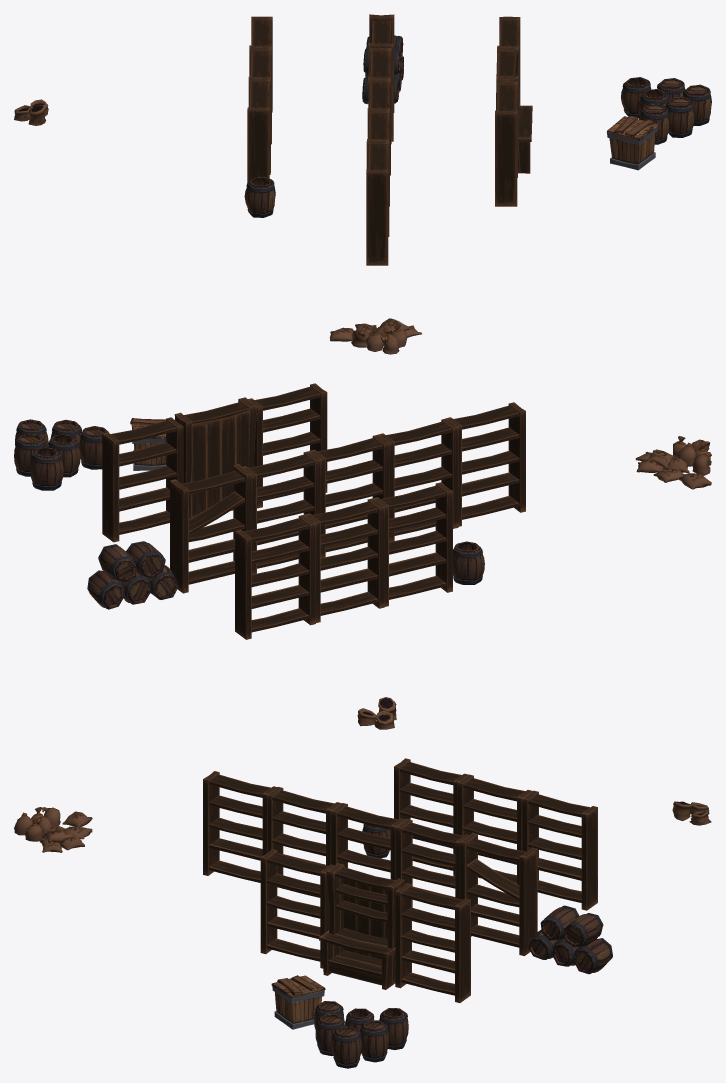
File: cocinaprops1.fbx
3 renders of one model, top to bottom at view 1: azimuth 30°, elevation 25°; view 2: azimuth 150°, elevation 25°; view 3: azimuth 270°, elevation 25°, orthographic. The views are drawn at different scales.
Visible parts, largest first — view 1: SM_PROP_bookshelf_dungeon_03.012, SM_PROP_bookshelf_dungeon_03.011, SM_PROP_bookshelf_dungeon_03.016, SM_PROP_box_dungeon_04.003, SM_PROP_bookshelf_dungeon_01.001, SM_PROP_bookshelf_dungeon_04.002, SM_PROP_barrel_dungeon_02.004, SM_PROP_barrel_dungeon_01.002, SM_PROP_barrel_dungeon_03.001, SM_PROP_bookshelf_dungeon_03.015, SM_PROP_bookshelf_dungeon_03.014, SM_PROP_bookshelf_dungeon_03.010 (+6 smaller); view 2: SM_PROP_bookshelf_dungeon_03.010, SM_PROP_bookshelf_dungeon_04.002, SM_PROP_bookshelf_dungeon_03.014, SM_PROP_bookshelf_dungeon_01.001, SM_PROP_bookshelf_dungeon_03.016, SM_PROP_bookshelf_dungeon_03.015, SM_PROP_bookshelf_dungeon_03.012, SM_PROP_barrel_dungeon_03.001, SM_PROP_bookshelf_dungeon_03.019, SM_PROP_bookshelf_dungeon_03.018, SM_PROP_bookshelf_dungeon_03.011, SM_PROP_bookshelf_dungeon_03.017 (+7 smaller); view 3: SM_PROP_bookshelf_dungeon_01.001, SM_PROP_bookshelf_dungeon_03.014, SM_PROP_bookshelf_dungeon_04.002, SM_PROP_bookshelf_dungeon_03.010, SM_PROP_bookshelf_dungeon_03.011, SM_PROP_bookshelf_dungeon_03.012, SM_PROP_barrel_dungeon_03.001, SM_PROP_bookshelf_dungeon_03.016, SM_PROP_bookshelf_dungeon_03.015, SM_PROP_bookshelf_dungeon_03.019, SM_PROP_bookshelf_dungeon_03.017, SM_PROP_bookshelf_dungeon_03.018 (+7 smaller).
Boxes of the visible parts, x1,y1,x2,y2 form: SM_PROP_bookshelf_dungeon_03.012: (366,140,389,265); SM_PROP_bookshelf_dungeon_03.011: (495,81,517,206); SM_PROP_bookshelf_dungeon_03.016: (247,78,270,182); SM_PROP_box_dungeon_04.003: (606,115,658,170); SM_PROP_bookshelf_dungeon_01.001: (496,47,532,173); SM_PROP_bookshelf_dungeon_04.002: (368,14,394,141); SM_PROP_barrel_dungeon_02.004: (244,176,275,217); SM_PROP_barrel_dungeon_01.002: (665,96,694,137); SM_PROP_barrel_dungeon_03.001: (362,35,403,104); SM_PROP_bookshelf_dungeon_03.015: (248,47,271,172); SM_PROP_bookshelf_dungeon_03.014: (497,16,520,105); SM_PROP_bookshelf_dungeon_03.010: (249,16,272,112); SM_PROP_bookshelf_dungeon_03.010: (235,515,315,639); SM_PROP_bookshelf_dungeon_04.002: (170,464,251,593); SM_PROP_bookshelf_dungeon_03.014: (102,417,183,542); SM_PROP_bookshelf_dungeon_01.001: (174,397,256,519); SM_PROP_bookshelf_dungeon_03.016: (372,482,452,606); SM_PROP_bookshelf_dungeon_03.015: (304,498,384,622); SM_PROP_bookshelf_dungeon_03.012: (445,402,525,526); SM_PROP_barrel_dungeon_03.001: (87,541,178,609); SM_PROP_bookshelf_dungeon_03.019: (378,418,458,541); SM_PROP_bookshelf_dungeon_03.018: (309,434,389,557); SM_PROP_bookshelf_dungeon_03.011: (248,383,327,508); SM_PROP_bookshelf_dungeon_03.017: (242,451,320,574); SM_PROP_bookshelf_dungeon_01.001: (319,863,404,989); SM_PROP_bookshelf_dungeon_03.014: (395,883,470,1002); SM_PROP_bookshelf_dungeon_04.002: (459,832,537,955); SM_PROP_bookshelf_dungeon_03.010: (522,790,597,910); SM_PROP_bookshelf_dungeon_03.011: (260,849,334,968); SM_PROP_bookshelf_dungeon_03.012: (203,771,278,882); SM_PROP_barrel_dungeon_03.001: (528,905,612,974); SM_PROP_bookshelf_dungeon_03.016: (394,758,468,876); SM_PROP_bookshelf_dungeon_03.015: (457,774,532,885); SM_PROP_bookshelf_dungeon_03.019: (268,786,341,897); SM_PROP_bookshelf_dungeon_03.017: (396,819,469,931); SM_PROP_bookshelf_dungeon_03.018: (331,803,406,880).
Bounding box in the file's own units: 14.57 × 2.57 × 16.43.
Materials: 26 (26 with a texture image).
